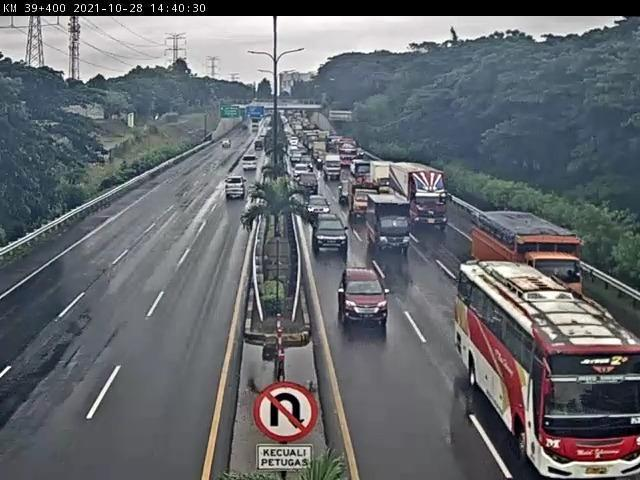bus: (458, 261, 640, 480)
car: (340, 270, 391, 325), (309, 215, 349, 253), (223, 179, 249, 201), (298, 172, 321, 196), (307, 196, 332, 218), (240, 156, 260, 175)
truck: (472, 208, 583, 311), (385, 161, 445, 226), (366, 193, 410, 249), (350, 186, 382, 226)
